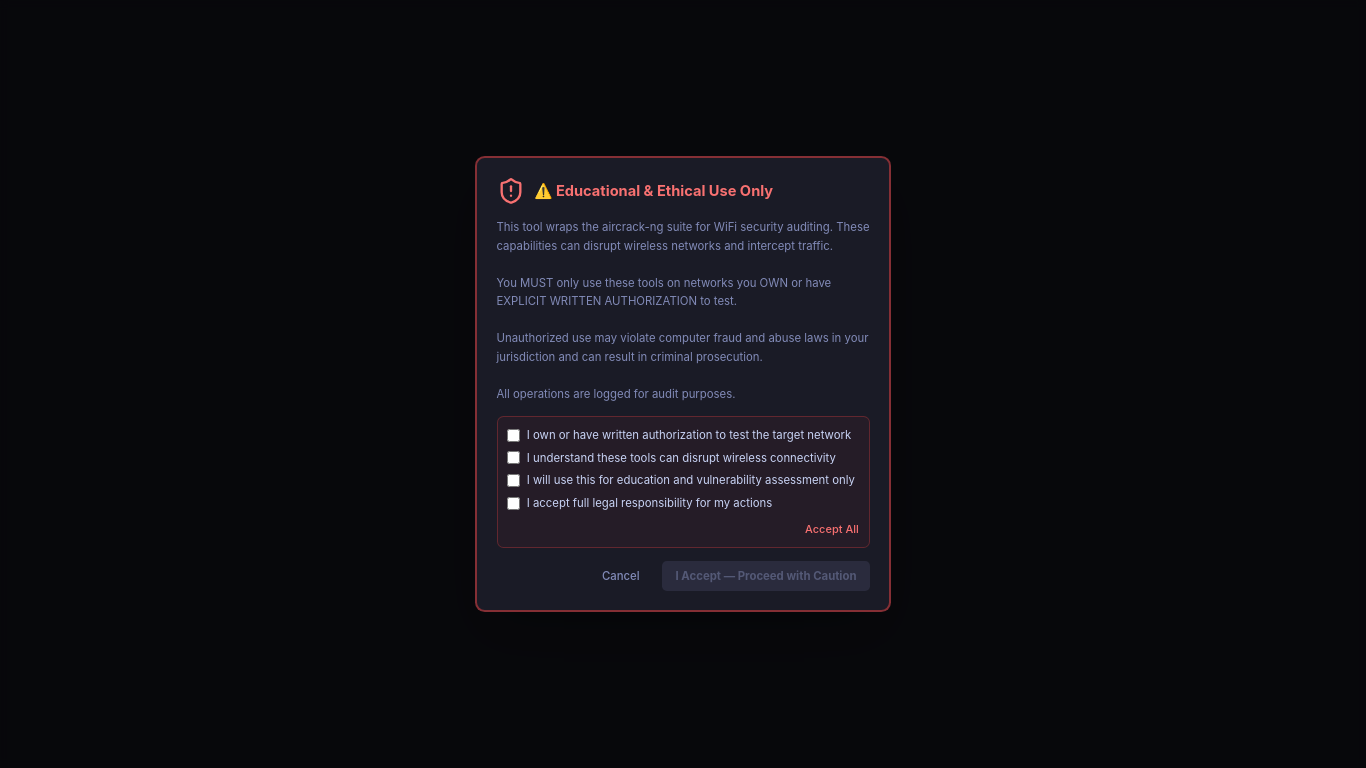
Test case: AircrackPanel › shows the needs-root badge when required
expect the heading "⚠️ Educational & Ethical Use Only" is shown: met, box [534,180,773,203]
Step 1. Click the 1st checkbox → coordinates (514, 435), box [507,428,520,442]
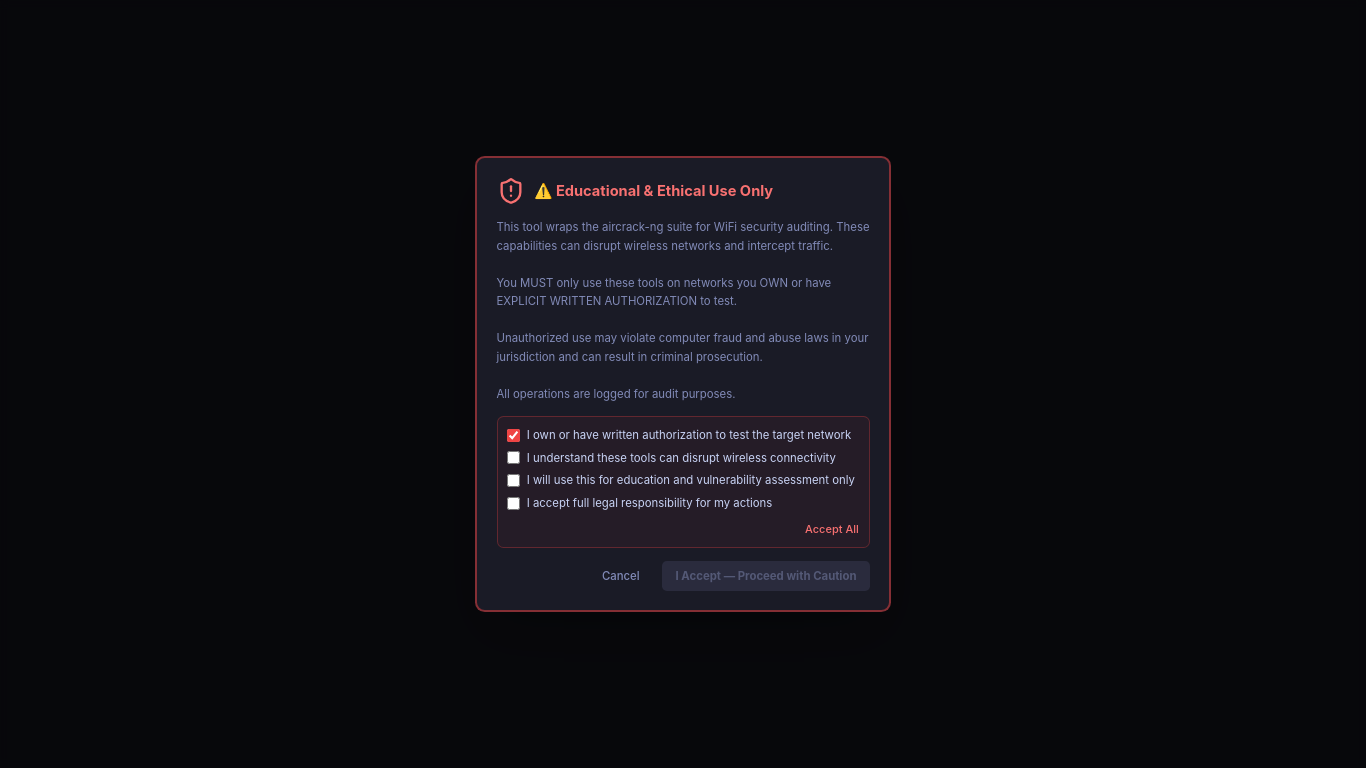
Step 2. Click the checkbox labelled "I understand these tools can disrupt wireless connectivity" → coordinates (514, 458), box [507,451,520,464]
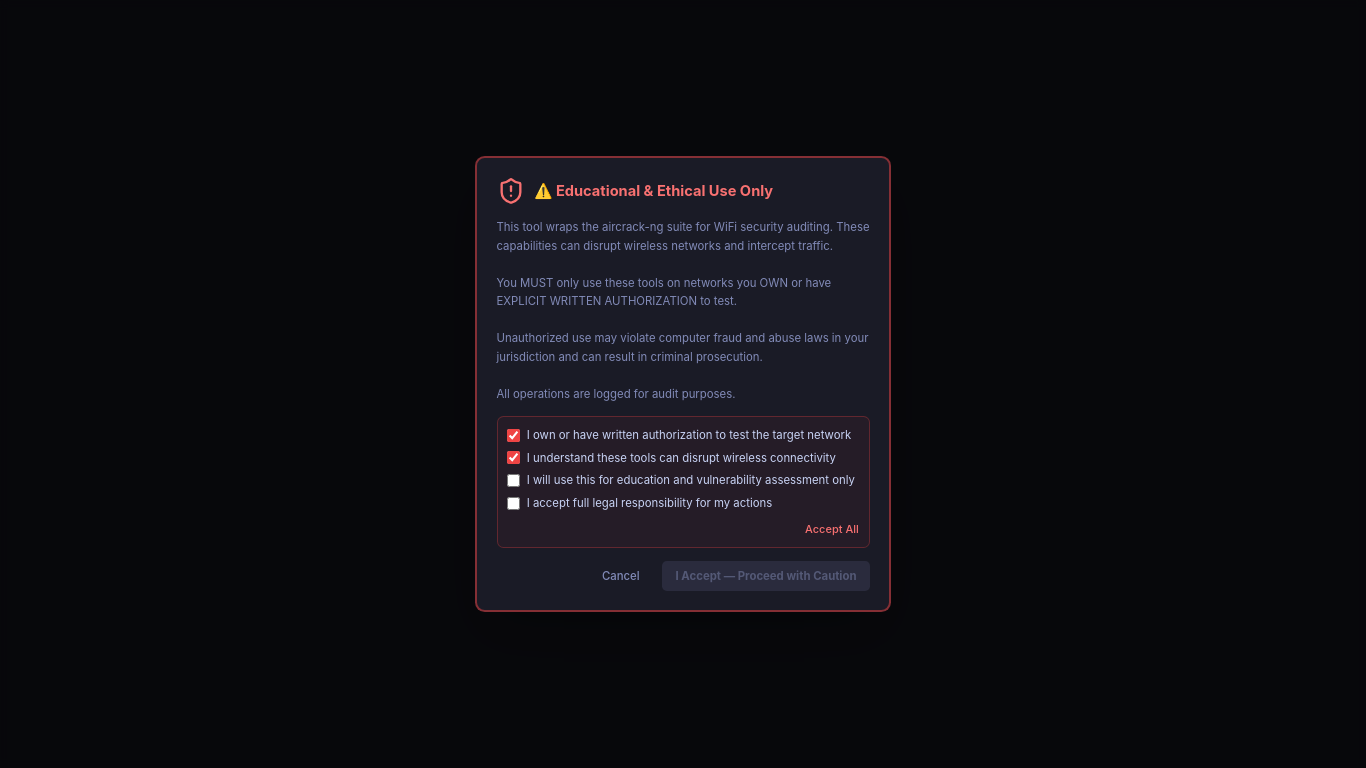
Step 3. Click the 3rd checkbox → coordinates (514, 480), box [507,474,520,487]
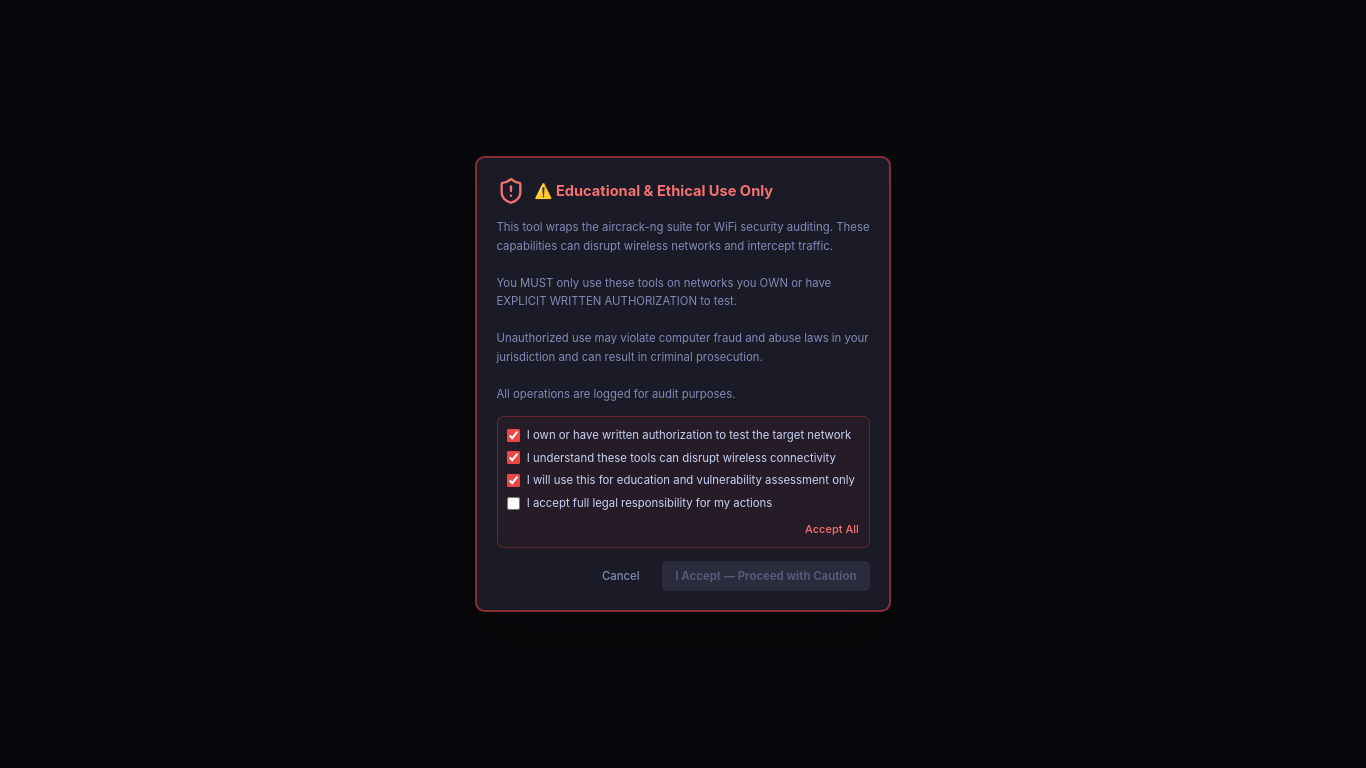
Step 4. Click the checkbox labelled "I accept full legal responsibility for my actions" → coordinates (514, 503), box [507,497,520,510]
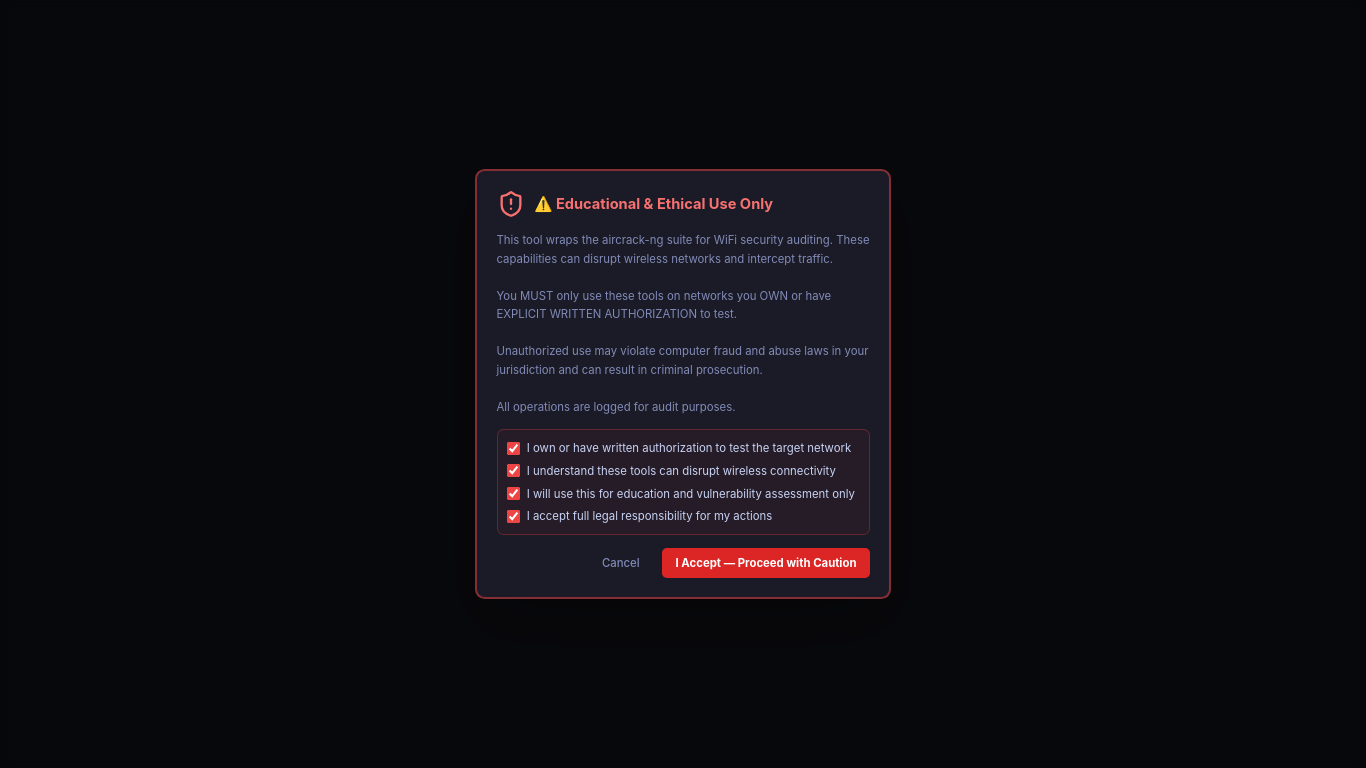
Step 5. Click the button "I Accept — Proceed with Caution" → coordinates (766, 563), box [662,548,870,578]
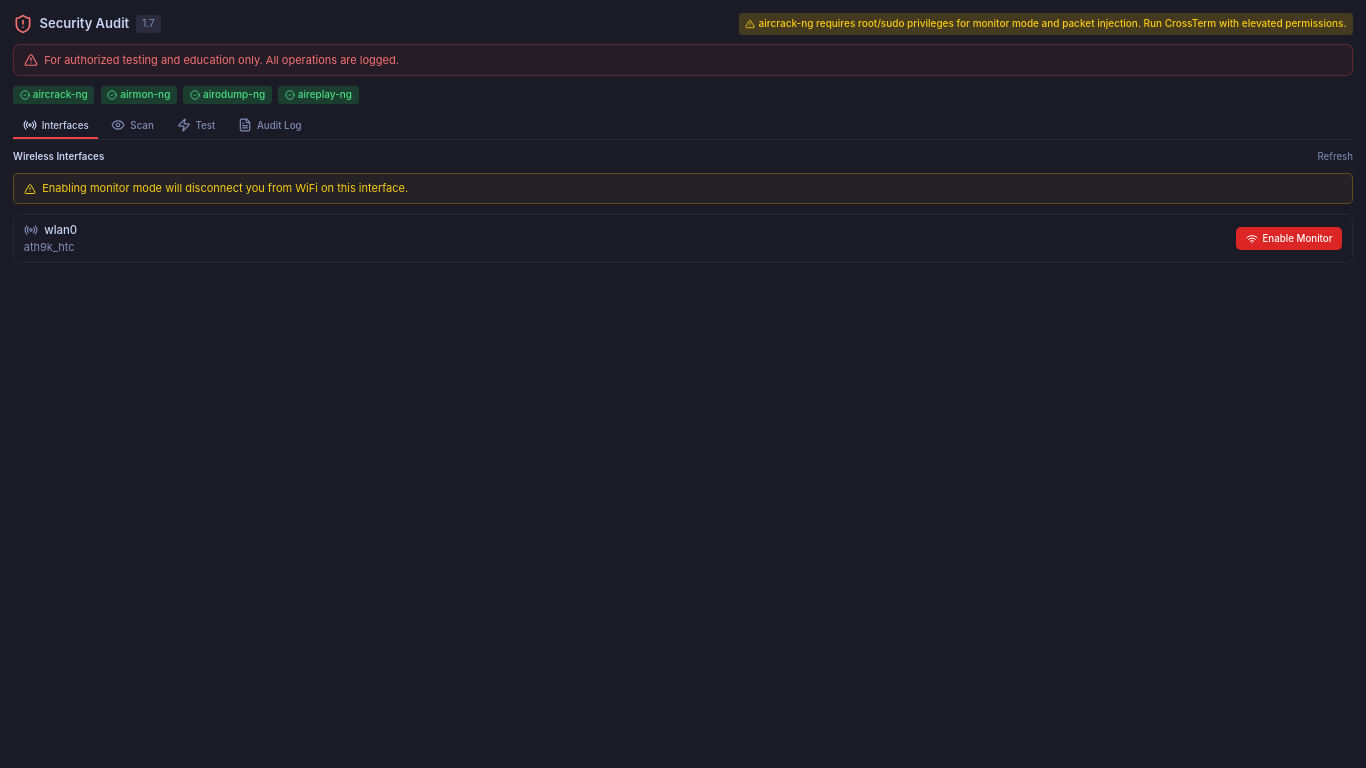
expect the text "aircrack-ng requires root/sudo privileges for monitor mode and packet injection. Run CrossTerm with elevated permissions" is shown: met, box [759,17,1346,29]
